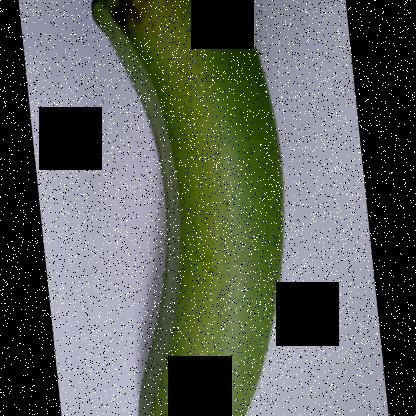freshunripe: (84, 0, 302, 415)
